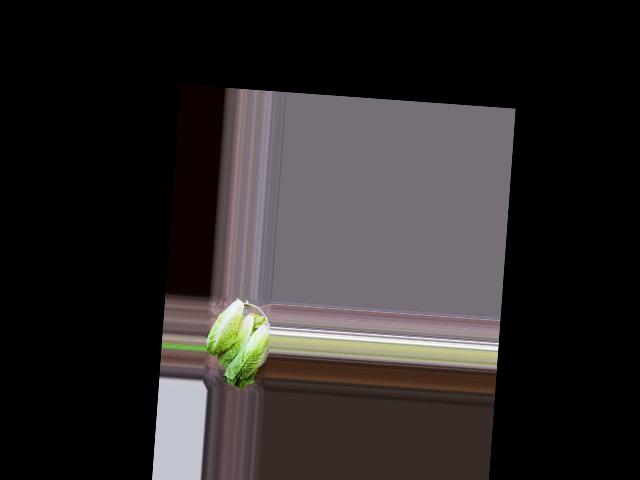lettuce: (222, 313, 271, 388)
